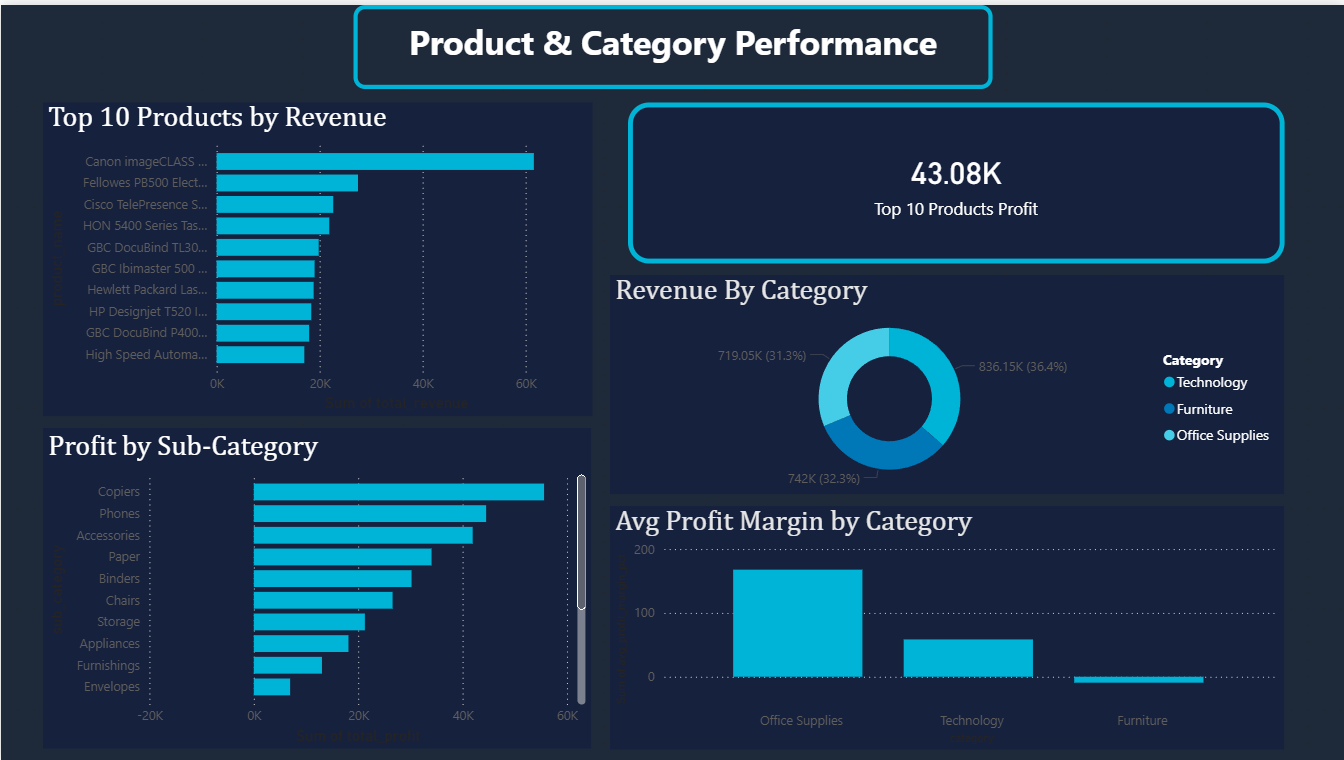

The page's visual inventory and layout, read from the dashboard file:
{"tool":"powerbi","page":{"name":"Product & Category","canvas":[1280,720],"ordinal":1},"visuals":[{"type":"textbox","box":[335.7,0,608.6,80],"z":0},{"type":"clusteredBarChart","title":"Top 10 Products by Revenue","fields":{"Category":["public vw_top_products.product_name"],"Y":["Sum(public vw_top_products.total_revenue)"]},"box":[40,93.3,523.3,298.3],"z":2000},{"type":"card","fields":{"Values":["Sum(public vw_top_products.total_profit)"]},"box":[596.7,93.3,625,153.3],"z":3000},{"type":"donutChart","title":"Revenue By Category","fields":{"Category":["public vw_category_performance.category"],"Y":["Sum(public vw_category_performance.total_revenue)"]},"box":[580,256.7,641.7,208.3],"z":4000},{"type":"clusteredBarChart","title":"Profit by Sub-Category","fields":{"Category":["public vw_category_performance.sub_category"],"Y":["Sum(public vw_category_performance.total_profit)"]},"box":[40,403.3,521.7,305],"z":5000},{"type":"clusteredColumnChart","title":"Avg Profit Margin by Category","fields":{"Y":["Sum(public vw_category_performance.avg_profit_margin_pct)"],"Category":["public vw_category_performance.category"]},"box":[580,476.7,641.7,231.7],"z":6000}]}

Visuals, with their boxes in screenshot pixels (x1, y1, x2, y2), scaled from the page's 1280x720 canvas onto the 1344x760 screenshot:
textbox: 352/0/992/84
"Top 10 Products by Revenue" clusteredBarChart: 42/98/591/413
card - Sum(public vw_top_products.total_profit): 627/98/1283/260
"Revenue By Category" donutChart: 609/271/1283/491
"Profit by Sub-Category" clusteredBarChart: 42/426/590/748
"Avg Profit Margin by Category" clusteredColumnChart: 609/503/1283/748
